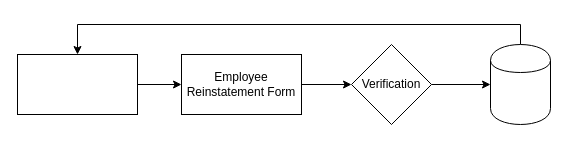
The diagram is 568 pixels wide and 142 high, and some of its shapes have lost their labels. Each missing label, with the box of its shape:
Database: (490, 44, 550, 124)
Employee List: (16, 54, 138, 114)
